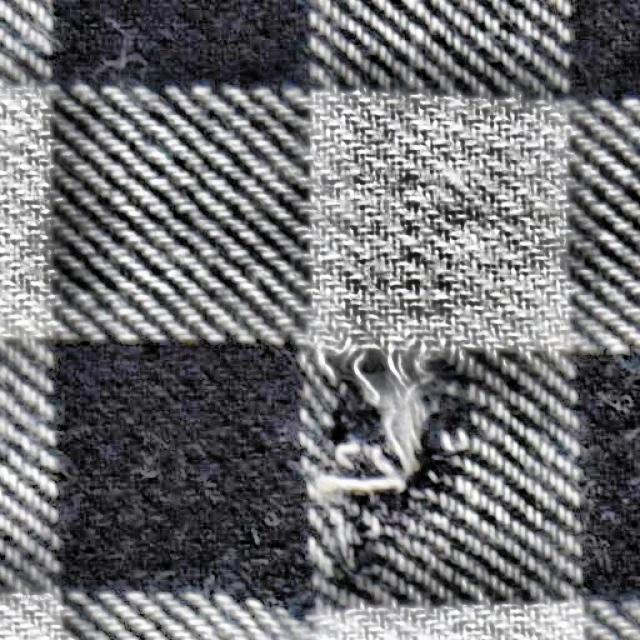Stitch: (277, 349, 485, 599)
